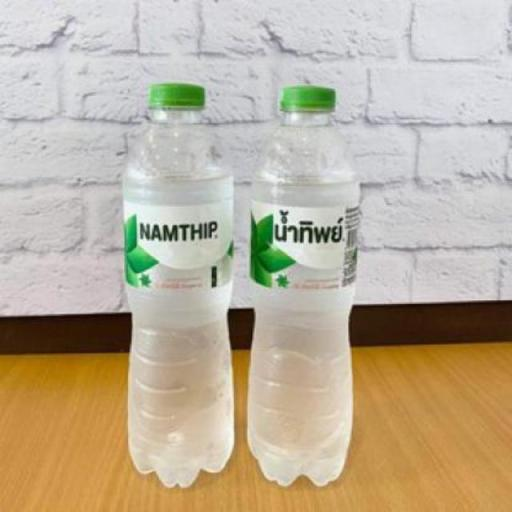Coca: (240, 76, 371, 495), (116, 76, 242, 494)
